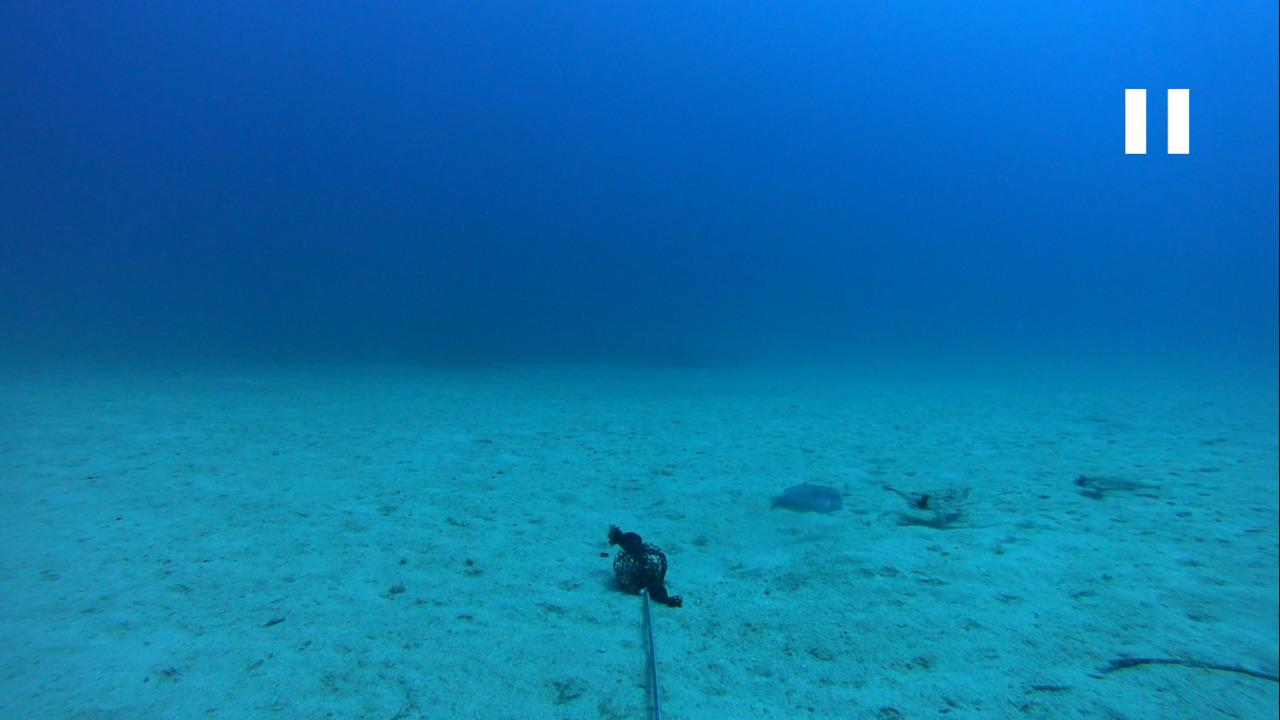dactylopterus: (869, 480, 975, 528), (1064, 467, 1179, 507)
raor: (764, 477, 848, 517)
